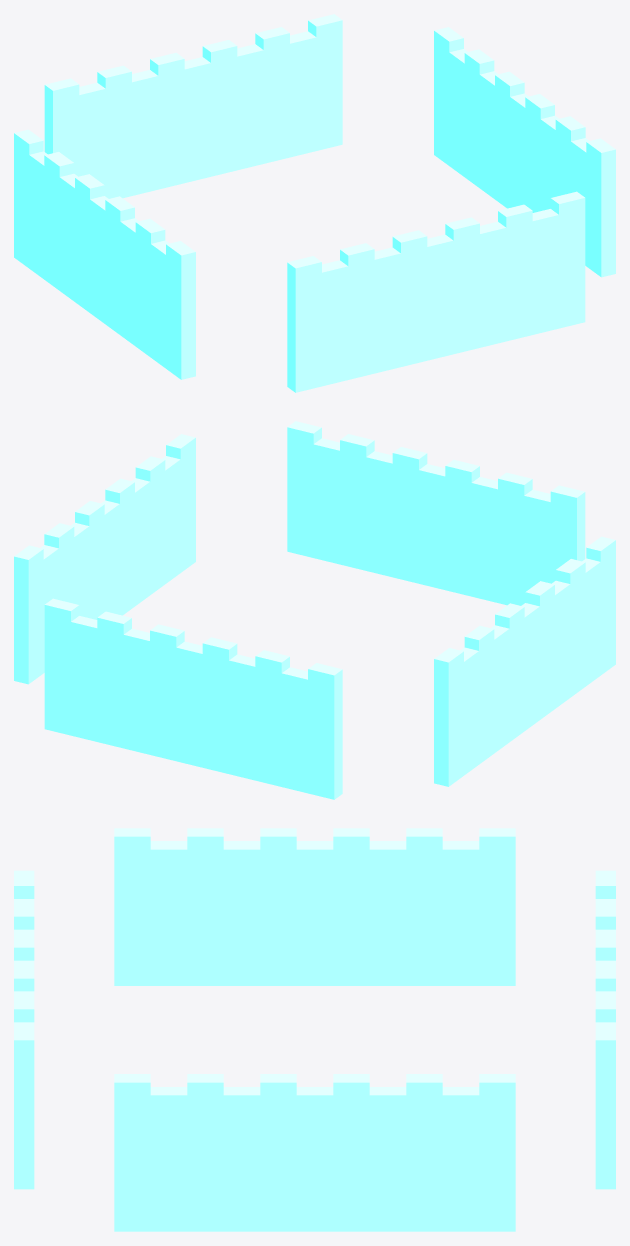
File: wallPlanes.gltf
3 renders of one model, top to bottom at view 1: azimuth 30°, elevation 25°; view 2: azimuth 150°, elevation 25°; view 3: azimuth 270°, elevation 25°, orthographic. The views are drawn at different scales.
Visible parts, largest first — view 1: wallDownPlane, wallUpPlane, wallLeftPlane, wallRightPlane; view 2: wallUpPlane, wallDownPlane, wallLeftPlane, wallRightPlane; view 3: wallLeftPlane, wallRightPlane, wallUpPlane, wallDownPlane.
Boxes of the visible parts, x1,y1,x2,y2 form: wallDownPlane: (287,191,585,392); wallUpPlane: (44,14,342,198); wallLeftPlane: (14,129,195,379); wallRightPlane: (434,27,615,277); wallUpPlane: (44,598,342,799); wallDownPlane: (287,421,585,605); wallLeftPlane: (434,536,615,786); wallRightPlane: (14,434,195,684); wallLeftPlane: (114,828,515,985); wallRightPlane: (114,1074,515,1231); wallUpPlane: (595,870,615,1189); wallDownPlane: (14,870,34,1189).
Size of the model in its own units: 6 by 1.64 by 6.
